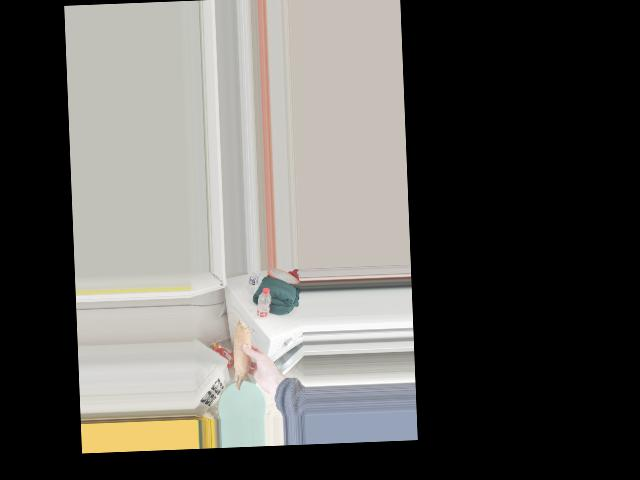sweet_potato: (231, 325, 255, 385)
